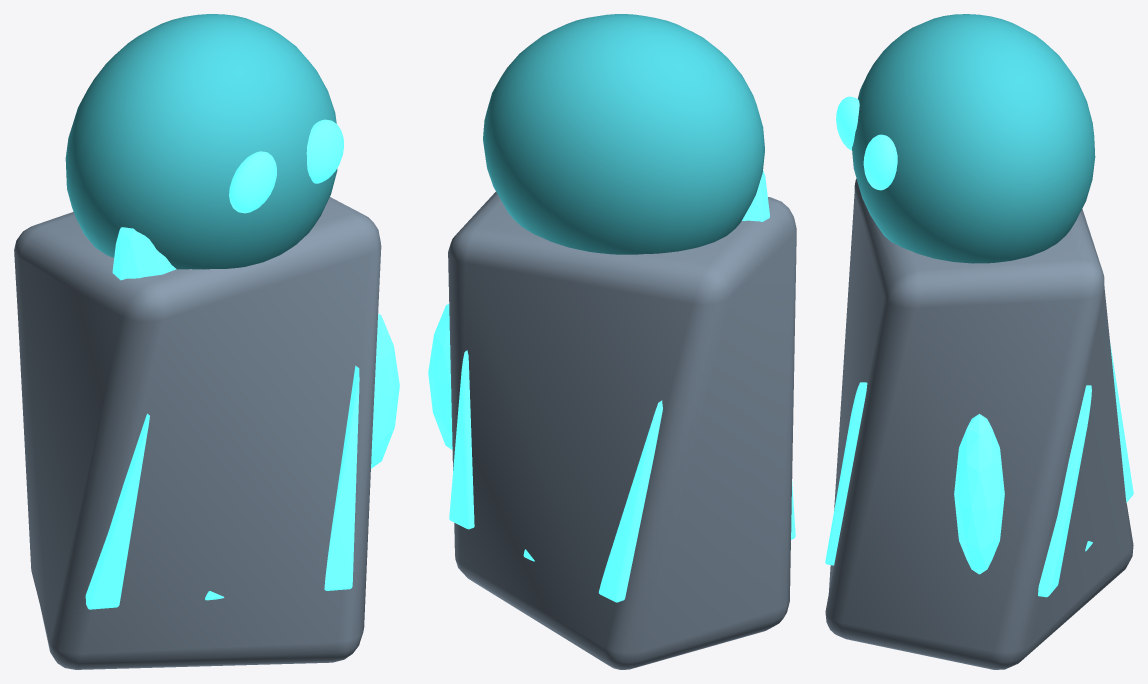
The model's file is trinket_v6.glb.
The picture shows the model from 3 angles, left to right: view 1: azimuth 30°, elevation 25°; view 2: azimuth 150°, elevation 25°; view 3: azimuth 270°, elevation 25°; orthographic projection. The views are drawn at different scales.
Parts seen in each view (by area): view 1: IDOL_BODY_PRIMARY, IDOL_HEAD_ACCENT, IDOL_RUNE_EMISSIVE, IDOL_RUNE_EMISSIVE.002, HELIX_SHARD_EMISSIVE, EYE_EMISSIVE, HELIX_SHARD_EMISSIVE.002, EYE_EMISSIVE.001; view 2: IDOL_BODY_PRIMARY, IDOL_HEAD_ACCENT, IDOL_RUNE_EMISSIVE, IDOL_RUNE_EMISSIVE.002, HELIX_SHARD_EMISSIVE, HELIX_SHARD_EMISSIVE.002; view 3: IDOL_BODY_PRIMARY, IDOL_HEAD_ACCENT, HELIX_SHARD_EMISSIVE, IDOL_RUNE_EMISSIVE.002, EYE_EMISSIVE.001, EYE_EMISSIVE, IDOL_RUNE_EMISSIVE.
Part boxes in pixels (<box>): IDOL_BODY_PRIMARY: <box>14,197,381,669</box>; IDOL_HEAD_ACCENT: <box>65,14,337,269</box>; IDOL_RUNE_EMISSIVE: <box>85,413,149,609</box>; IDOL_RUNE_EMISSIVE.002: <box>324,365,359,590</box>; HELIX_SHARD_EMISSIVE: <box>371,314,399,468</box>; EYE_EMISSIVE: <box>229,151,276,213</box>; HELIX_SHARD_EMISSIVE.002: <box>112,227,176,280</box>; EYE_EMISSIVE.001: <box>306,119,343,183</box>; IDOL_BODY_PRIMARY: <box>448,192,796,669</box>; IDOL_HEAD_ACCENT: <box>483,14,764,254</box>; IDOL_RUNE_EMISSIVE: <box>598,400,795,602</box>; IDOL_RUNE_EMISSIVE.002: <box>449,350,474,529</box>; HELIX_SHARD_EMISSIVE: <box>428,304,452,449</box>; HELIX_SHARD_EMISSIVE.002: <box>742,170,769,221</box>; IDOL_BODY_PRIMARY: <box>825,178,1133,669</box>; IDOL_HEAD_ACCENT: <box>852,14,1095,263</box>; HELIX_SHARD_EMISSIVE: <box>954,414,1004,574</box>; IDOL_RUNE_EMISSIVE.002: <box>825,382,1091,597</box>; EYE_EMISSIVE.001: <box>863,134,897,190</box>; EYE_EMISSIVE: <box>836,96,859,150</box>; IDOL_RUNE_EMISSIVE: <box>1110,341,1133,502</box>.
Bounding box in the file's own units: 1.25 × 2.02 × 0.9721.
